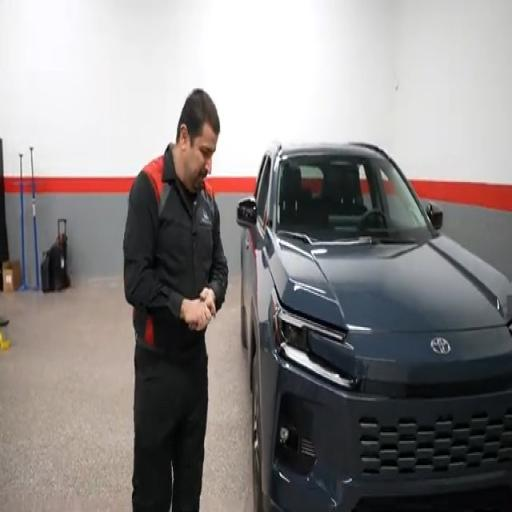bumper: (263, 357, 511, 511)
door: (243, 154, 271, 328)
emblem: (431, 338, 451, 355)
fog_light: (280, 427, 289, 443)
grille: (360, 409, 511, 477)
headlight: (272, 295, 355, 389), (508, 320, 511, 334)
hood: (270, 237, 511, 332)
side_mirror: (237, 197, 256, 227), (426, 202, 443, 230)
wheel: (252, 357, 263, 511), (240, 284, 247, 348)
window: (256, 156, 271, 221)
windshield: (276, 156, 433, 243)
